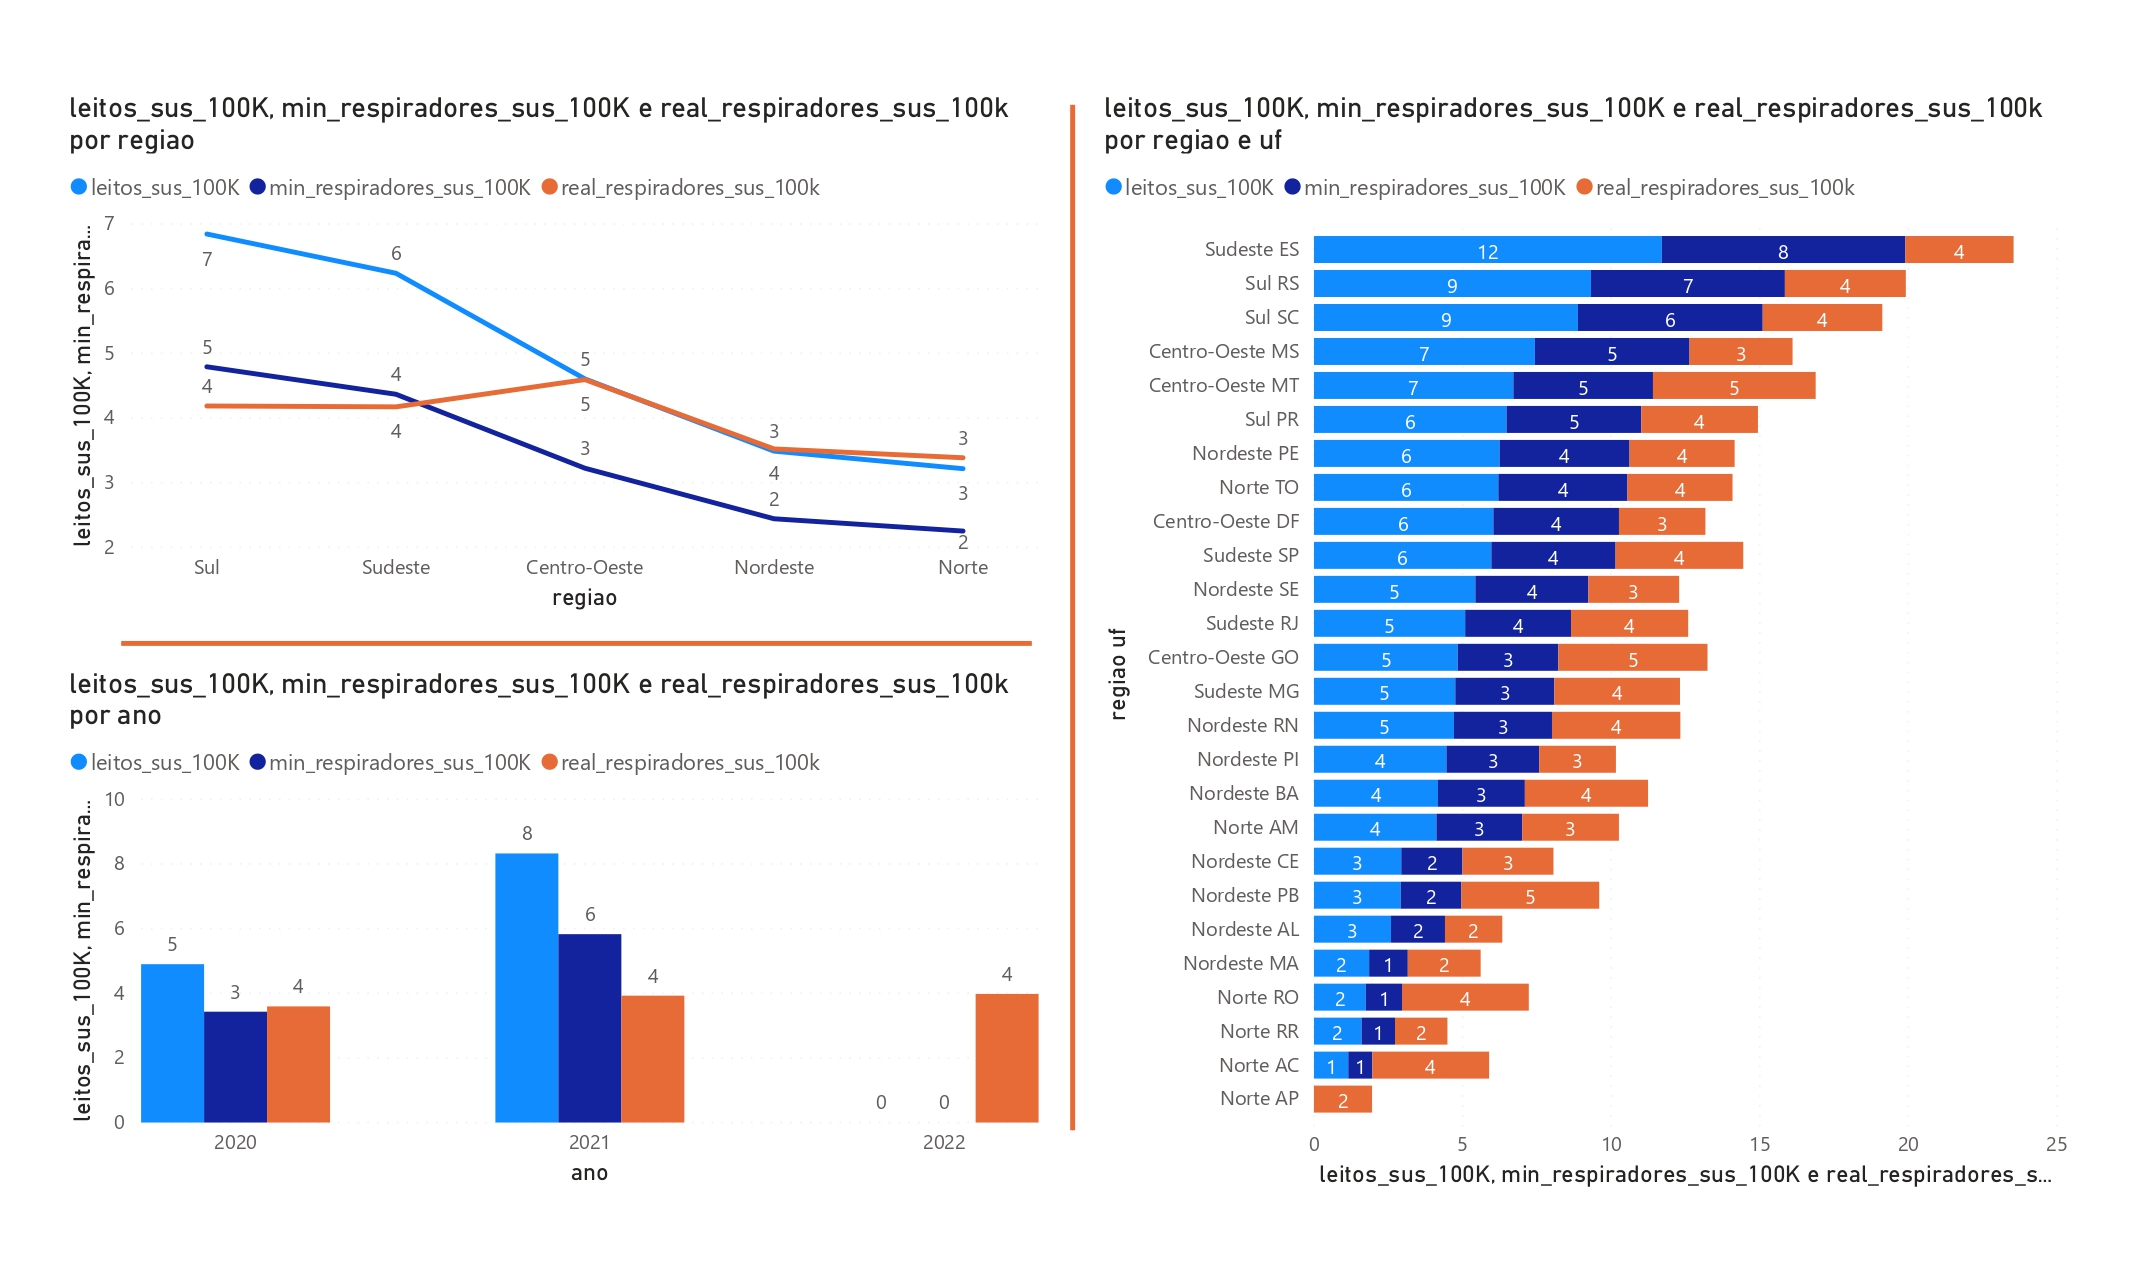

What the dashboard file says about the page in this screenshot:
{"tool":"powerbi","page":{"name":"Suporte SUS 100K","canvas":[1280,720],"ordinal":4},"visuals":[{"type":"basicShape","box":[624.7,25.5,28.9,645.1],"z":0},{"type":"lineChart","fields":{"Y":["Avg(projetotcc fato_recursos.quant_min_sup_vent_sus_100k)","Avg(projetotcc fato_recursos.quant_sup_vent_sus_100k)"],"Category":["projetotcc dim_local.regiao"]},"box":[49,26,575,323],"z":5},{"type":"clusteredColumnChart","fields":{"Category":["projetotcc dim_tempo.ano"],"Y":["Avg(projetotcc fato_recursos.quant_min_sup_vent_sus_100k)","Avg(projetotcc fato_recursos.quant_sup_vent_sus_100k)"]},"box":[49,378,575,293],"z":2000},{"type":"barChart","fields":{"Category":["projetotcc dim_local.uf","projetotcc dim_local.regiao"],"Y":["Avg(projetotcc fato_recursos.quant_min_sup_vent_sus_100k)","Avg(projetotcc fato_recursos.quant_sup_vent_sus_100k)"]},"box":[653.6,25.5,604.3,645.1],"z":3000},{"type":"basicShape","box":[49.4,348.9,575.3,28.9],"z":4000}]}

Visuals, with their boxes on the page's 1280x720 design canvas (x1, y1, x2, y2). These are canvas units, not pixel positions in the 2150x1275 screenshot, which may show the page scaled, cropped or inside an application window:
basicShape: [x1=625, y1=26, x2=654, y2=671]
lineChart - Avg(projetotcc fato_recursos.quant_min_sup_vent_sus_100k) x Avg(projetotcc fato_recursos.quant_sup_vent_sus_100k): [x1=49, y1=26, x2=624, y2=349]
clusteredColumnChart - projetotcc dim_tempo.ano x Avg(projetotcc fato_recursos.quant_min_sup_vent_sus_100k): [x1=49, y1=378, x2=624, y2=671]
barChart - projetotcc dim_local.uf x projetotcc dim_local.regiao: [x1=654, y1=26, x2=1258, y2=671]
basicShape: [x1=49, y1=349, x2=625, y2=378]
